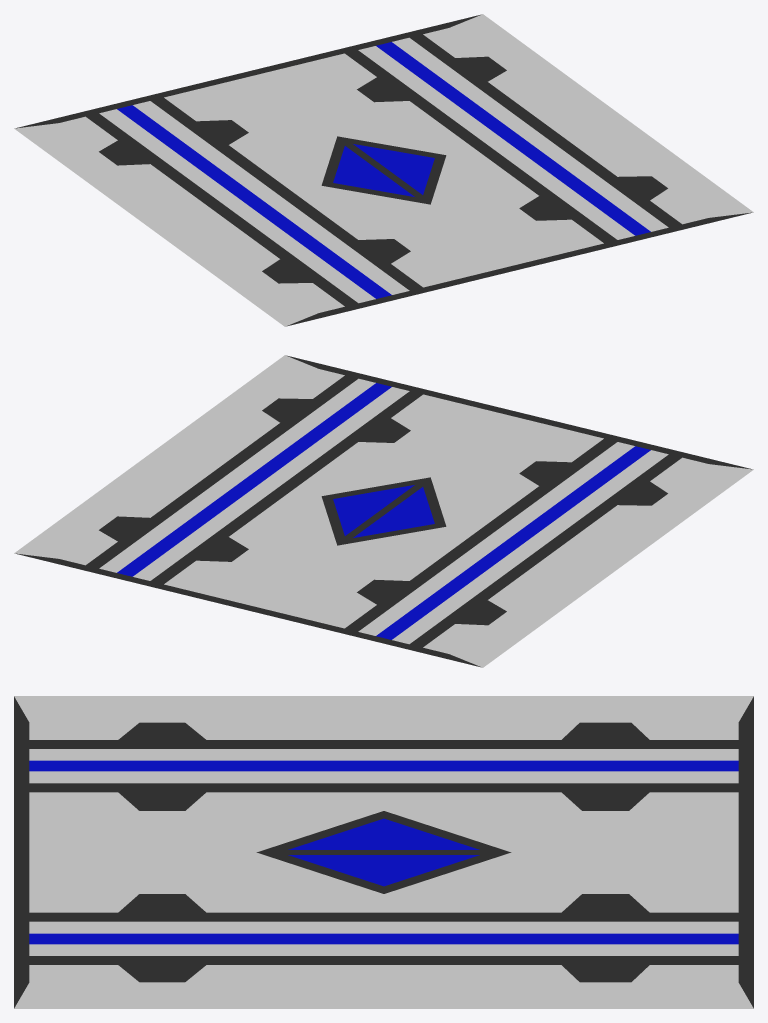
Rendered from dangerzone.fbx.
3 views of the same model, one above another, from view 1: azimuth 30°, elevation 25°; view 2: azimuth 150°, elevation 25°; view 3: azimuth 270°, elevation 25° (orthographic). The views are drawn at different scales.
Parts seen in each view (by area): view 1: Plane; view 2: Plane; view 3: Plane.
Part boxes in pixels (x1,y1,x2,y2): Plane: (14, 14, 753, 326); Plane: (14, 355, 753, 667); Plane: (14, 696, 753, 1008).
Bounding box in the file's own units: 2.09 × 3.4e-07 × 2.09.
